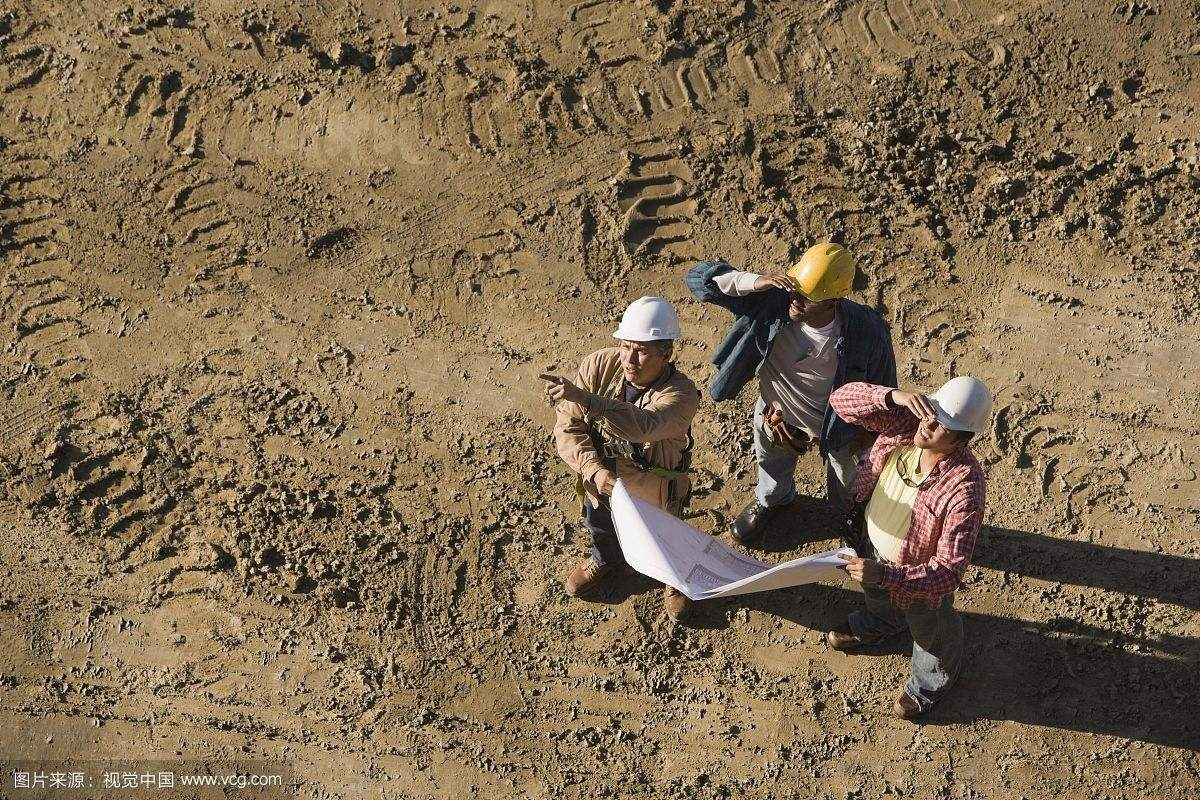white: (912, 375, 995, 454), (612, 295, 681, 385)
yellow: (787, 242, 855, 321)
